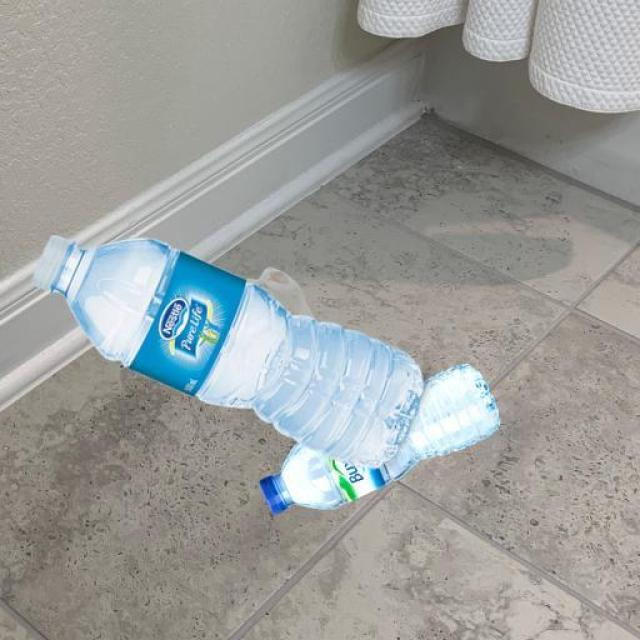bottle: (8, 222, 484, 512)
